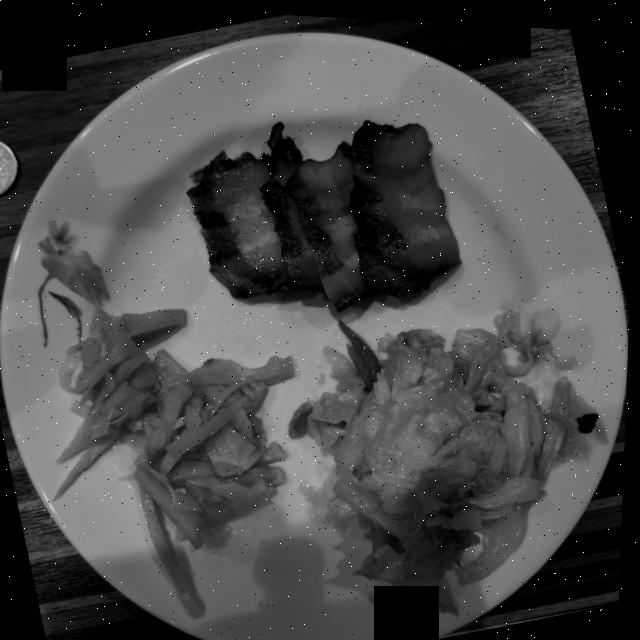cabbage: (303, 304, 578, 608)
coin: (0, 141, 19, 195)
red grilled pork: (189, 117, 460, 307)
